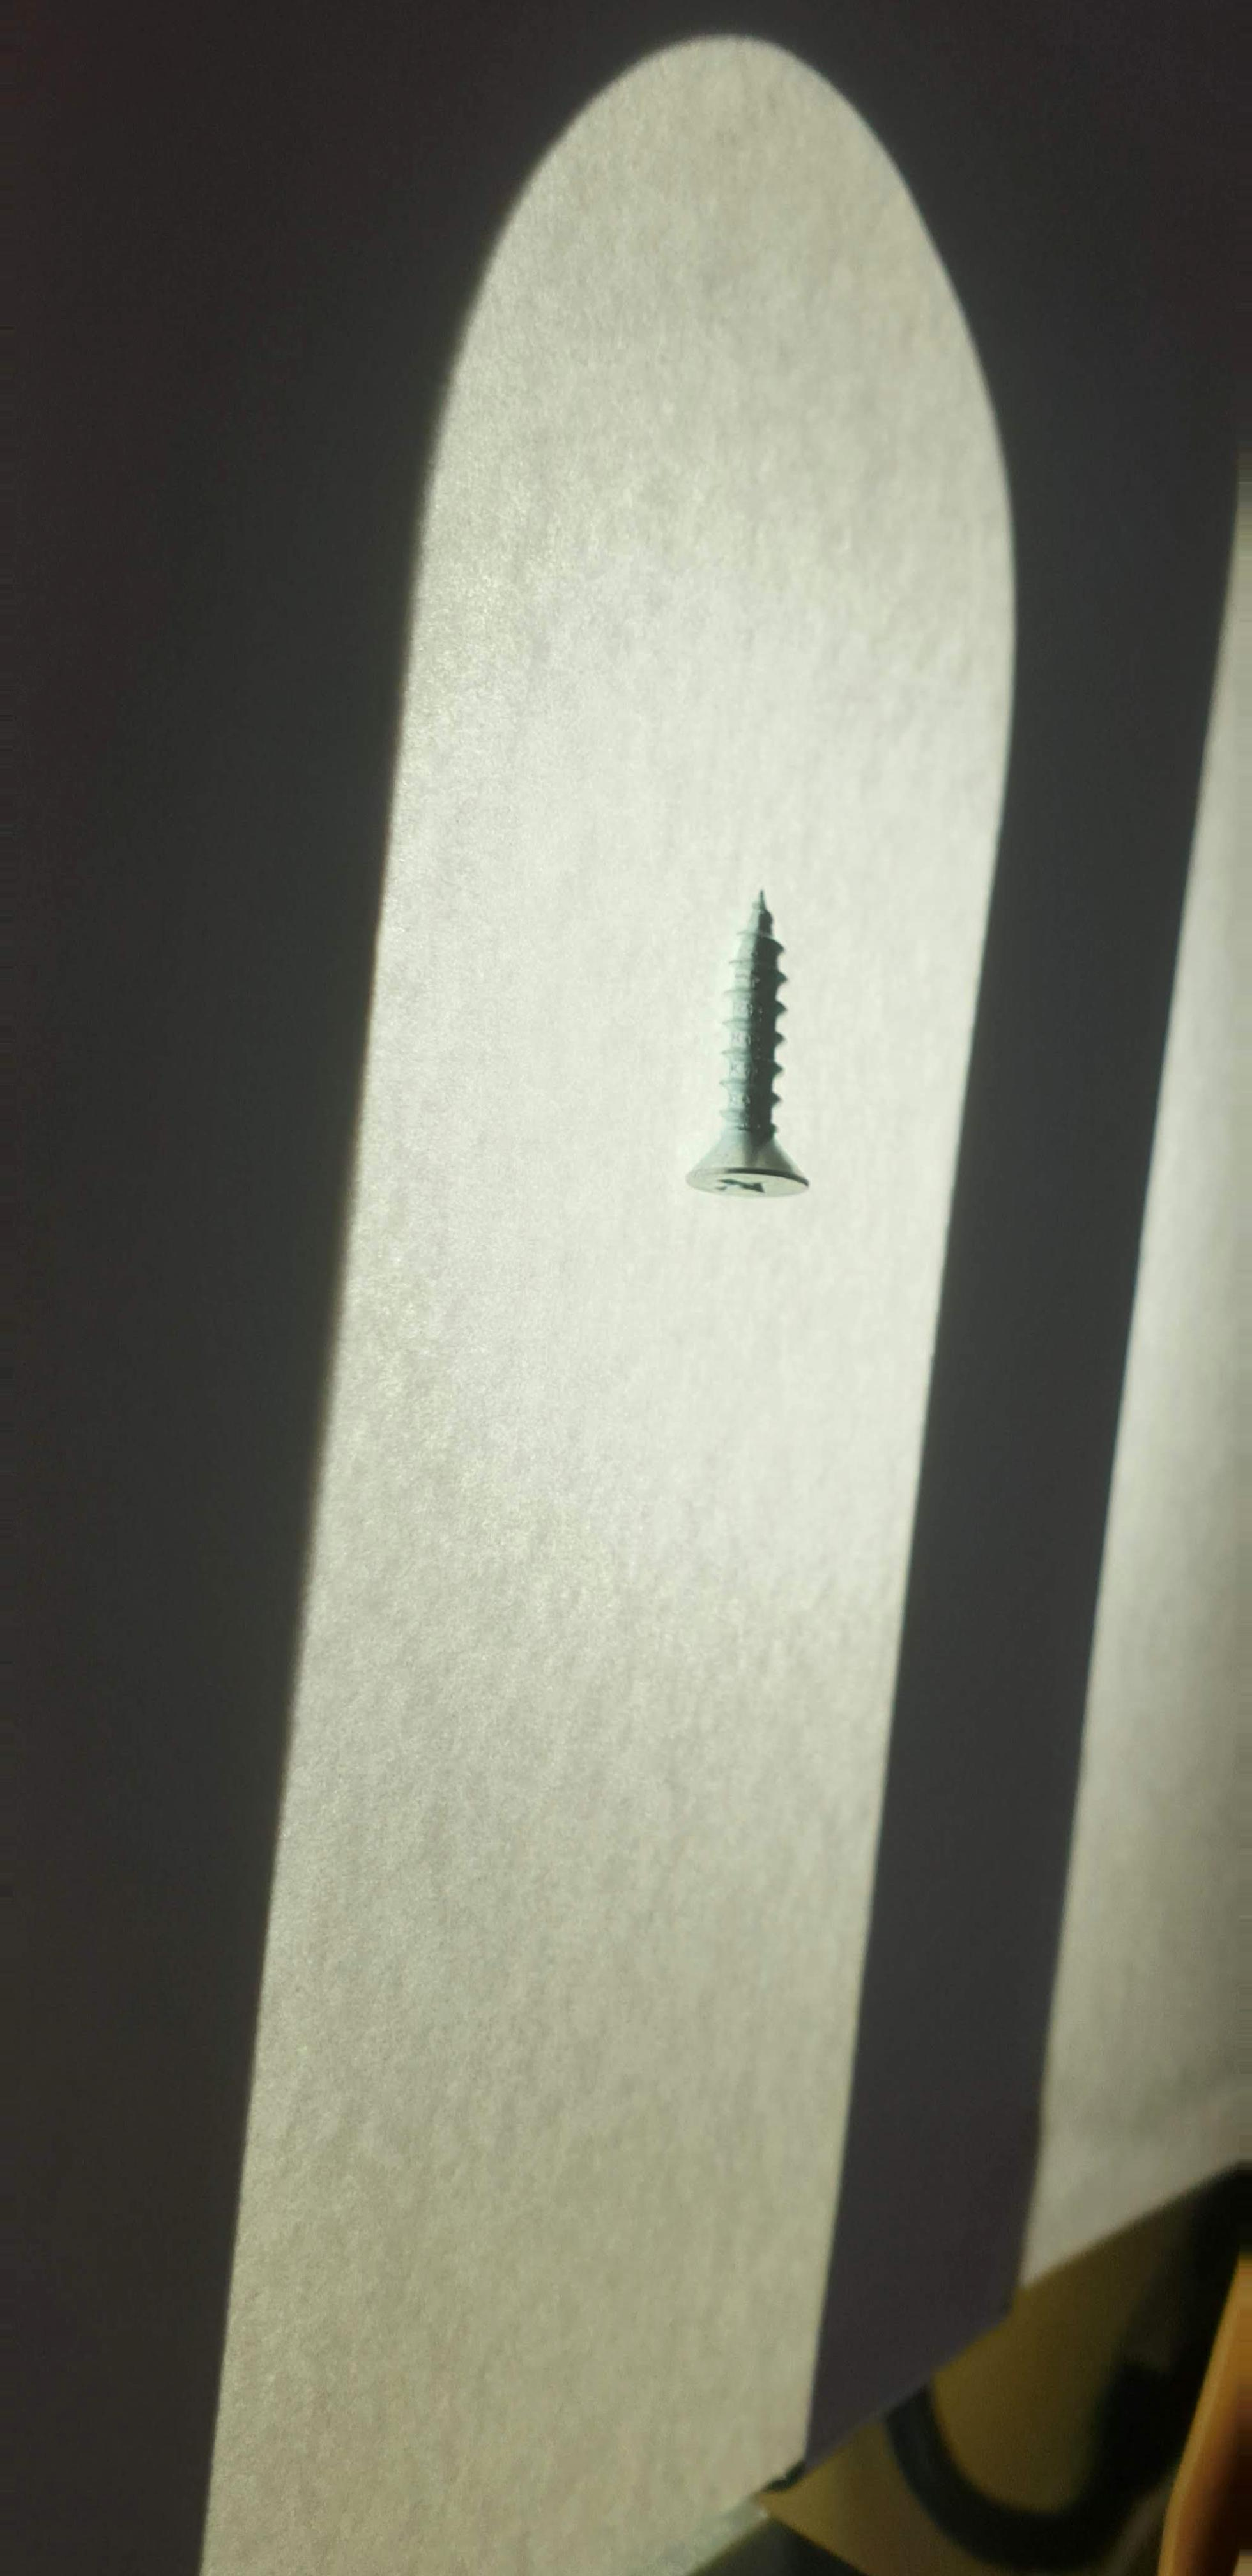S003: (670, 854, 831, 1272)
